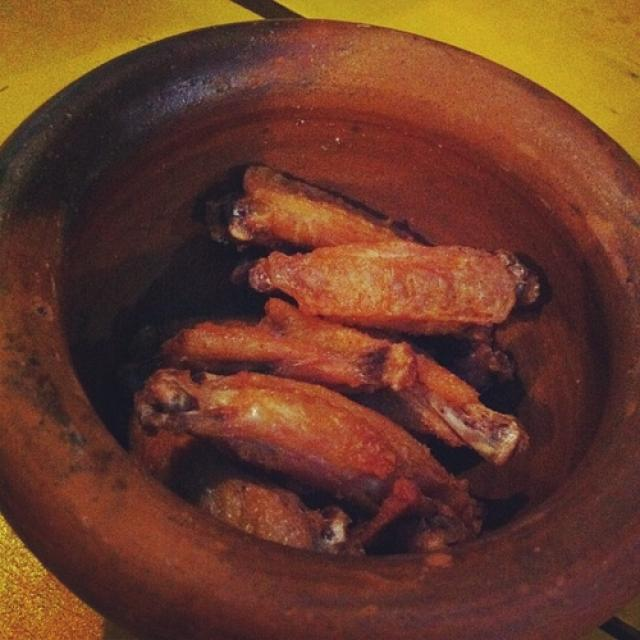Deep fried chicken wing: (144, 156, 547, 563)
